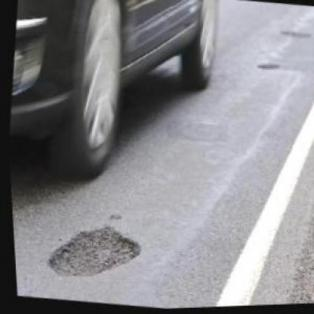Hueco: (40, 218, 143, 290)
